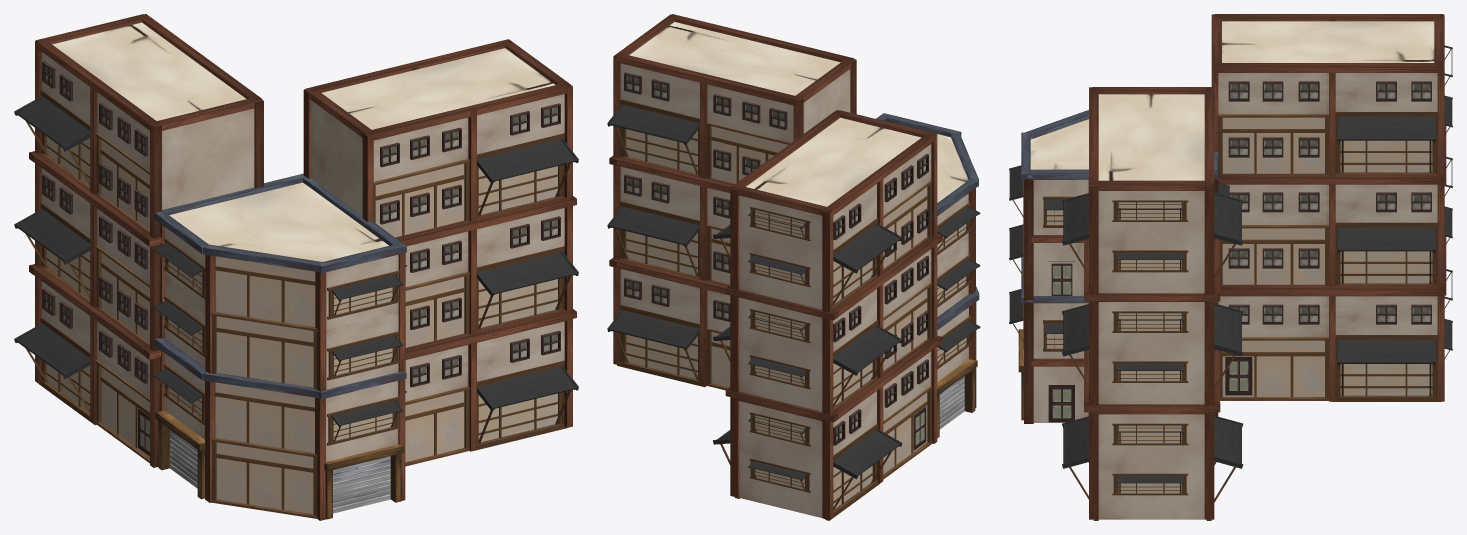
File: Nha 19.fbx
3 views of the same model, side by side, from view 1: azimuth 30°, elevation 25°; view 2: azimuth 150°, elevation 25°; view 3: azimuth 270°, elevation 25° (orthographic). The views are drawn at different scales.
Parts seen in each view (by area): view 1: Cube.902; view 2: Cube.902; view 3: Cube.902.
Part boxes in pixels (x1,y1,x2,y2): Cube.902: (14,14,578,520); Cube.902: (607,14,980,520); Cube.902: (1009,14,1452,520).
Size of the model in its own units: 2978 by 2505 by 2990.
